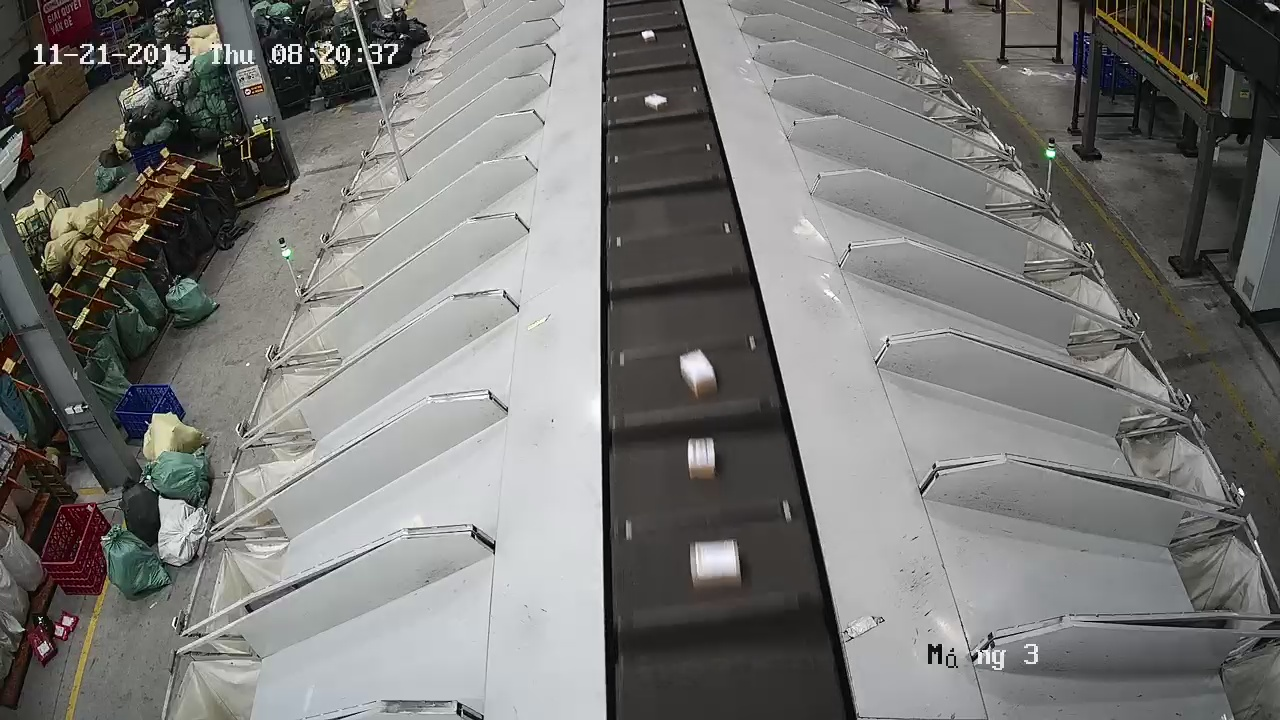parcel: (687, 537, 745, 592)
